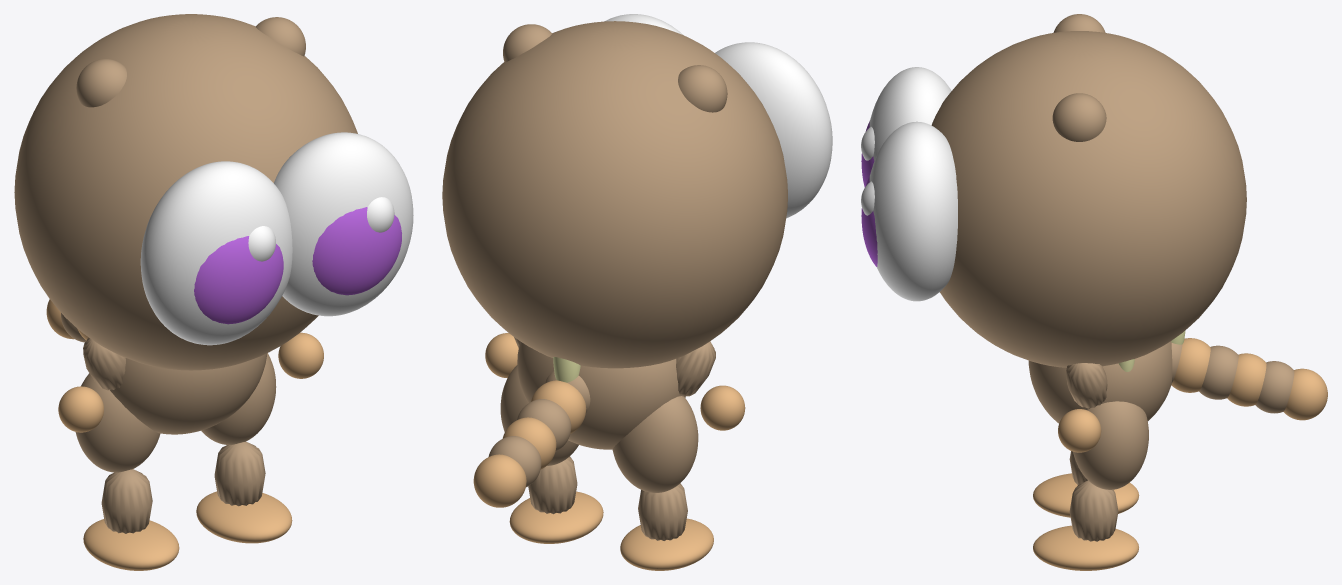
The model's file is trickraccoon.glb.
3 views of the same model, side by side, from view 1: azimuth 30°, elevation 25°; view 2: azimuth 150°, elevation 25°; view 3: azimuth 270°, elevation 25° (orthographic). The views are drawn at different scales.
Parts seen in each view (by area): view 1: Head, LE_Scl, RE_Scl, Body, LE_Iris, RE_Iris, Thigh_0, Foot_0, Foot_1, Shin_0, Shin_1, Thigh_1 (+7 smaller); view 2: Head, LE_Scl, Body, Thigh_0, Foot_1, Foot_0, Shin_0, Tail_5, Shin_1, Ear_0, Hand_0, Arm_0 (+9 smaller); view 3: Head, RE_Scl, Body, Thigh_1, LE_Scl, Foot_1, Shin_1, Ear_1, Foot_0, Tail_5, Arm_1, Tail_1 (+6 smaller).
Part boxes in pixels (box(x1,y1,x2,y2)): Head: box(14, 14, 357, 370); LE_Scl: box(140, 161, 292, 345); RE_Scl: box(274, 132, 413, 316); Body: box(110, 353, 266, 434); LE_Iris: box(194, 236, 283, 324); RE_Iris: box(312, 207, 401, 295); Thigh_0: box(75, 373, 160, 472); Foot_0: box(83, 519, 179, 570); Foot_1: box(196, 491, 292, 543); Shin_0: box(101, 469, 152, 533); Shin_1: box(214, 441, 265, 506); Thigh_1: box(201, 353, 276, 444); Head: box(442, 21, 787, 368); LE_Scl: box(715, 42, 832, 218); Body: box(517, 341, 685, 449); Thigh_0: box(612, 396, 698, 492); Foot_1: box(509, 491, 603, 543); Foot_0: box(620, 518, 713, 570); Shin_0: box(638, 483, 687, 540); Tail_5: box(473, 454, 526, 507); Shin_1: box(528, 456, 577, 514); Ear_0: box(678, 65, 727, 112); Hand_0: box(700, 385, 745, 430); Arm_0: box(676, 341, 715, 396); Head: box(931, 31, 1246, 367); RE_Scl: box(869, 121, 957, 301); Body: box(1028, 341, 1172, 423); Thigh_1: box(1073, 401, 1148, 489); LE_Scl: box(869, 67, 951, 160); Foot_1: box(1033, 525, 1138, 570); Shin_1: box(1069, 480, 1118, 541); Ear_1: box(1052, 93, 1106, 141); Foot_0: box(1033, 473, 1139, 517); Tail_5: box(1283, 368, 1327, 420); Arm_1: box(1066, 363, 1107, 408); Tail_1: box(1171, 338, 1210, 392).
Bounding box in the file's own units: 0.835 × 1.35 × 1.16.
